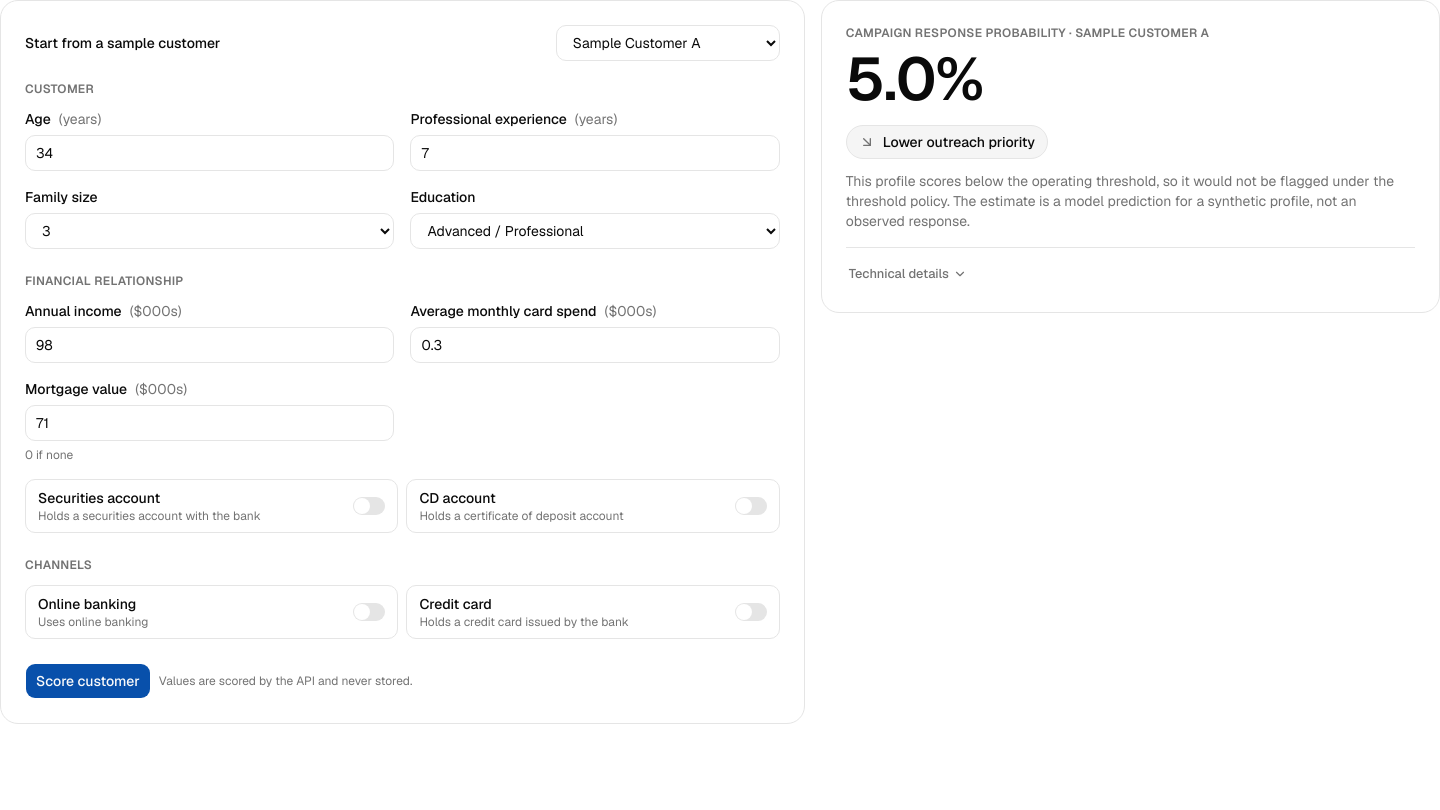
Test: CustomerExplorer › blocks scoring and shows field feedback when inputs are invalid
Expected: the text "5.0%" is shown, [846,40,983,118]
Clear the number field labelled "Annual income ($000s)": (210, 345) [25,327,394,363]
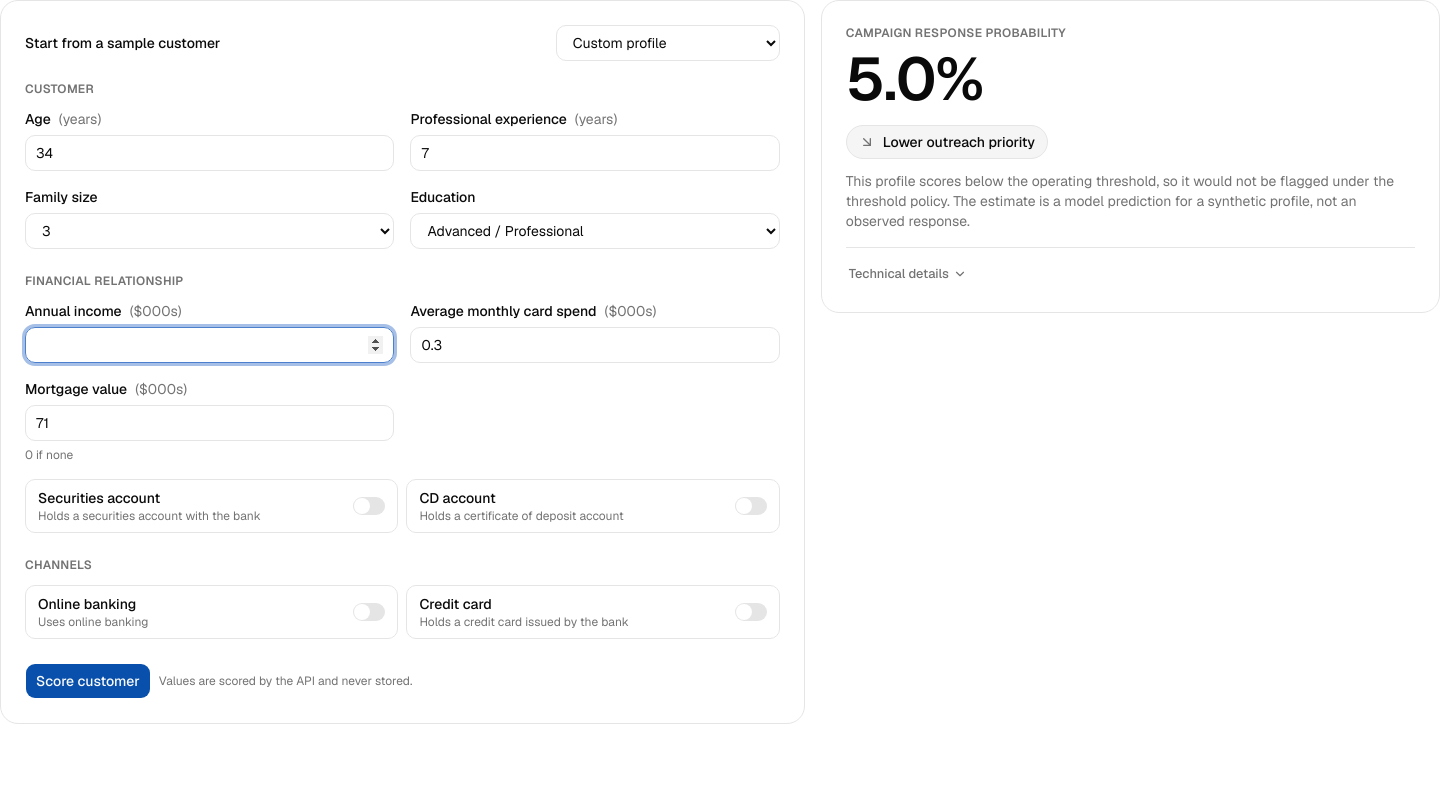
Click the button "Score customer": (88, 681) [25,663,151,699]
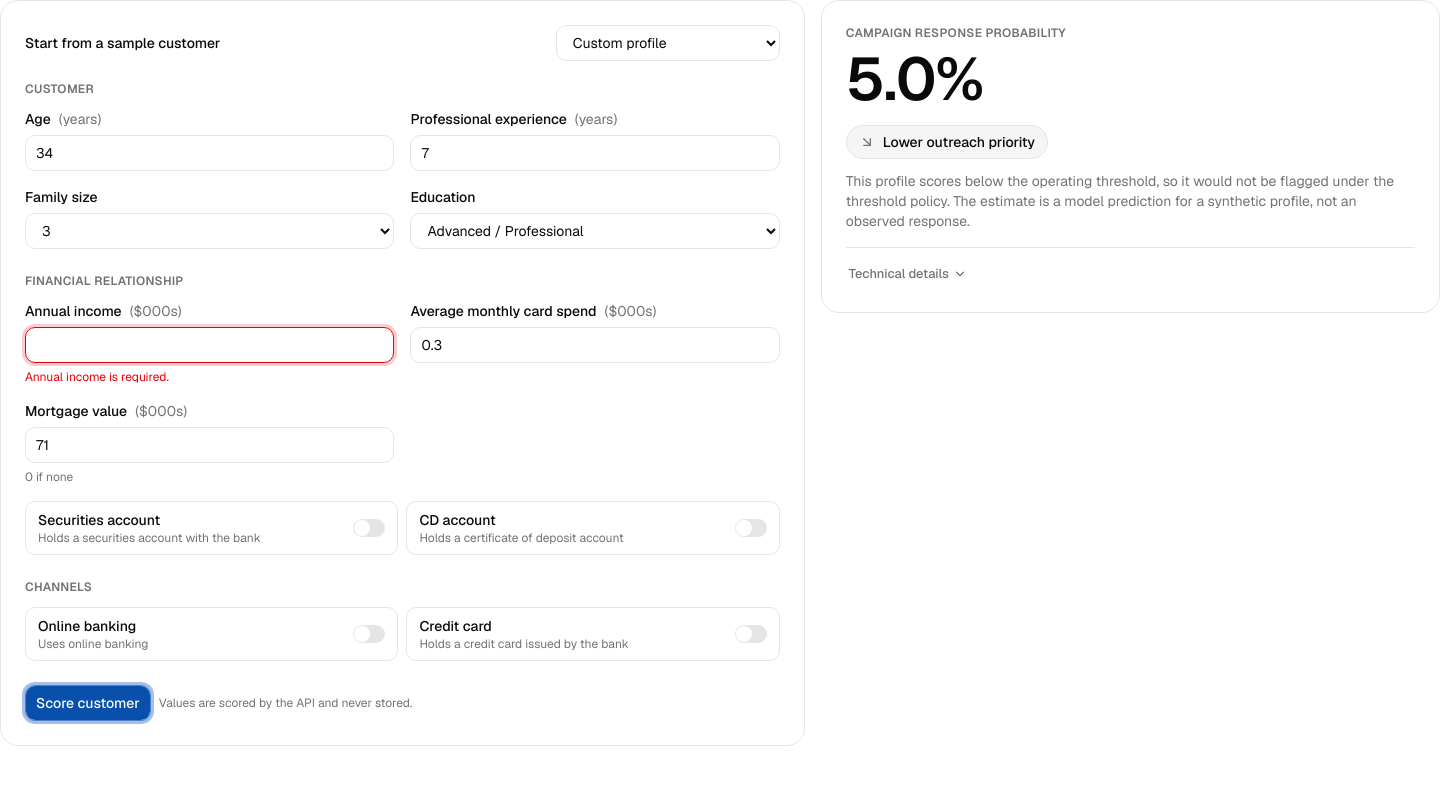
Result: the text "Annual income is required." is shown at [25,369,169,385]
